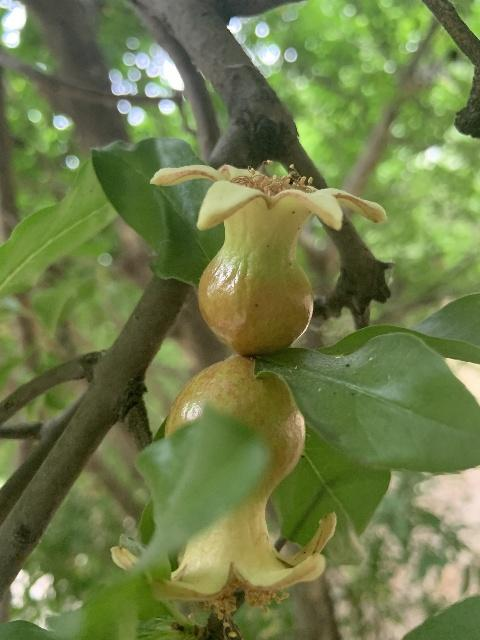early-fruit: (111, 356, 333, 620), (150, 161, 385, 357)
